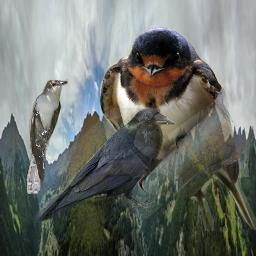Crow: (34, 108, 177, 223)
Cuckoo: (25, 78, 68, 194)
Swallow: (100, 27, 256, 231)
